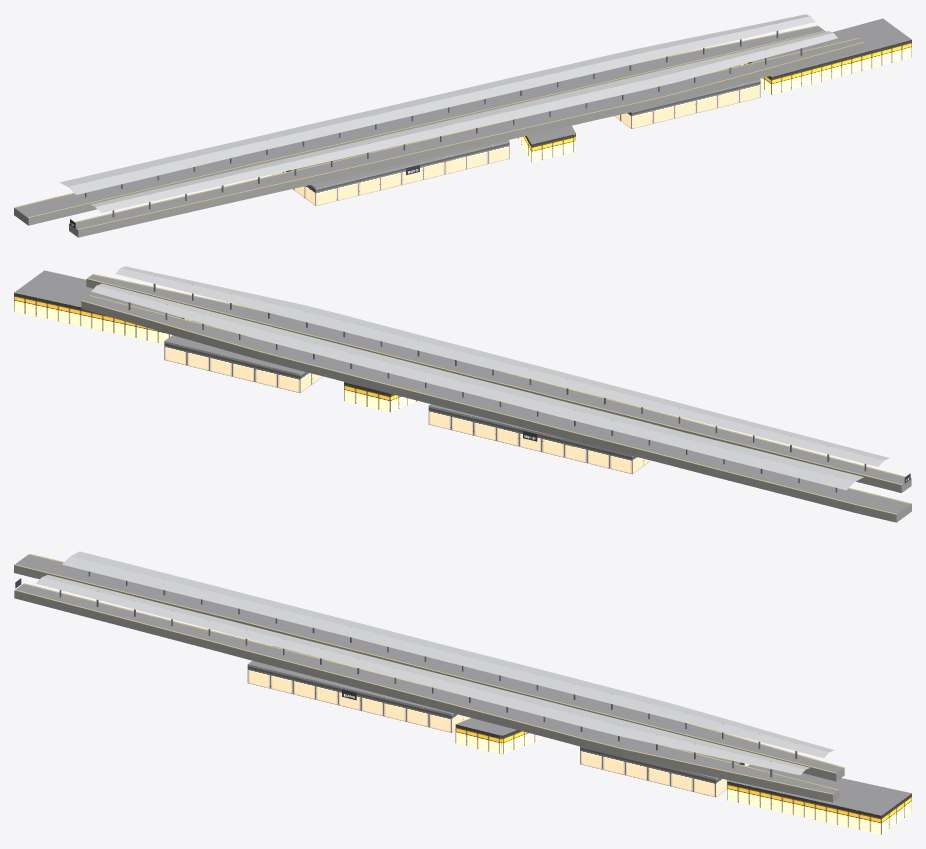
The model's file is okachimachi_station.glb.
3 renders of one model, top to bottom at view 1: azimuth 30°, elevation 25°; view 2: azimuth 150°, elevation 25°; view 3: azimuth 330°, elevation 25°, orthographic. The views are drawn at different scales.
Parts seen in each view (by area): view 1: OC_Station; view 2: OC_Station; view 3: OC_Station.
Boxes of the visible parts, box(x1,y1,x2,y2) form: OC_Station: box(14, 14, 911, 237); OC_Station: box(14, 266, 911, 522); OC_Station: box(14, 551, 911, 834).
Size of the model in its own units: 238 by 10.9 by 27.86.
10 materials, 2 textured.
